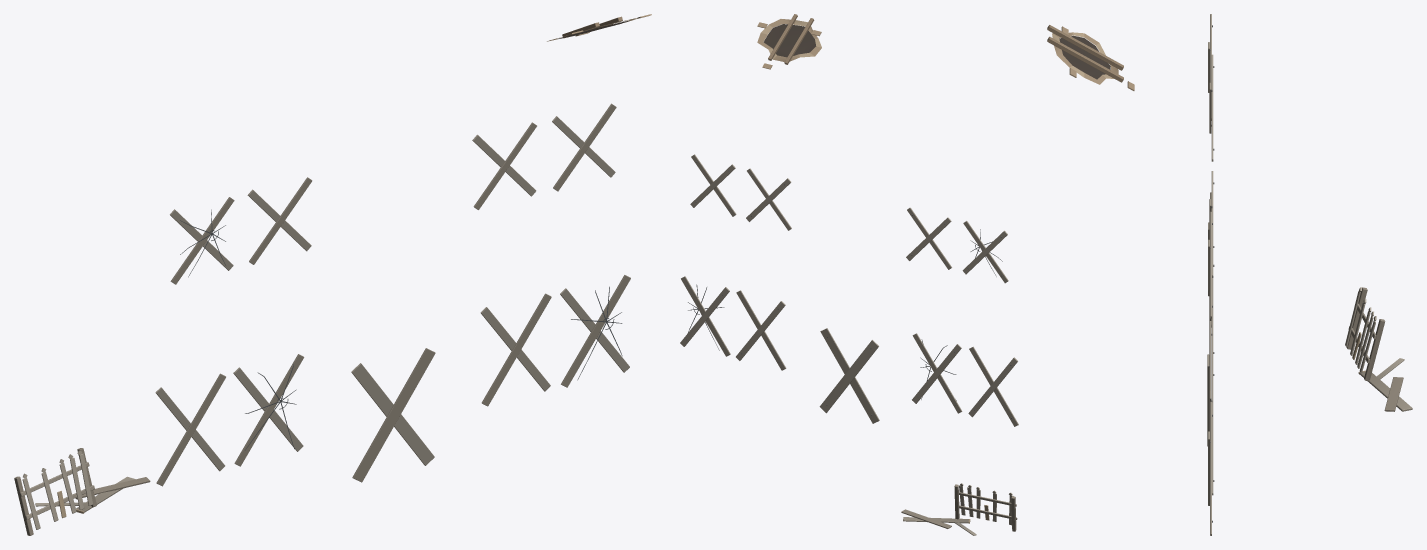
File: house_broken_manor2.glb
3 views of the same model, side by side, from view 1: azimuth 30°, elevation 25°; view 2: azimuth 150°, elevation 25°; view 3: azimuth 270°, elevation 25° (orthographic). The views are drawn at different scales.
Bounding box in the file's own units: 9.65 × 8.72 × 5.31.
